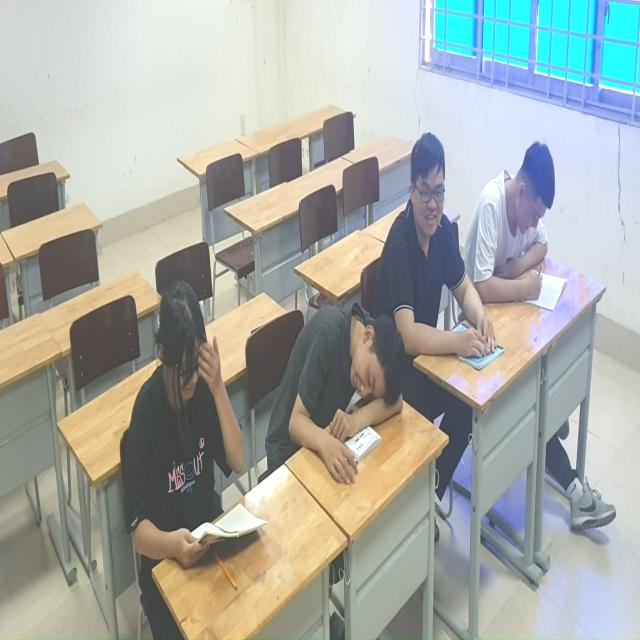read: (113, 272, 268, 591), (377, 124, 507, 375), (475, 122, 577, 324)
sleep: (268, 276, 412, 496)
